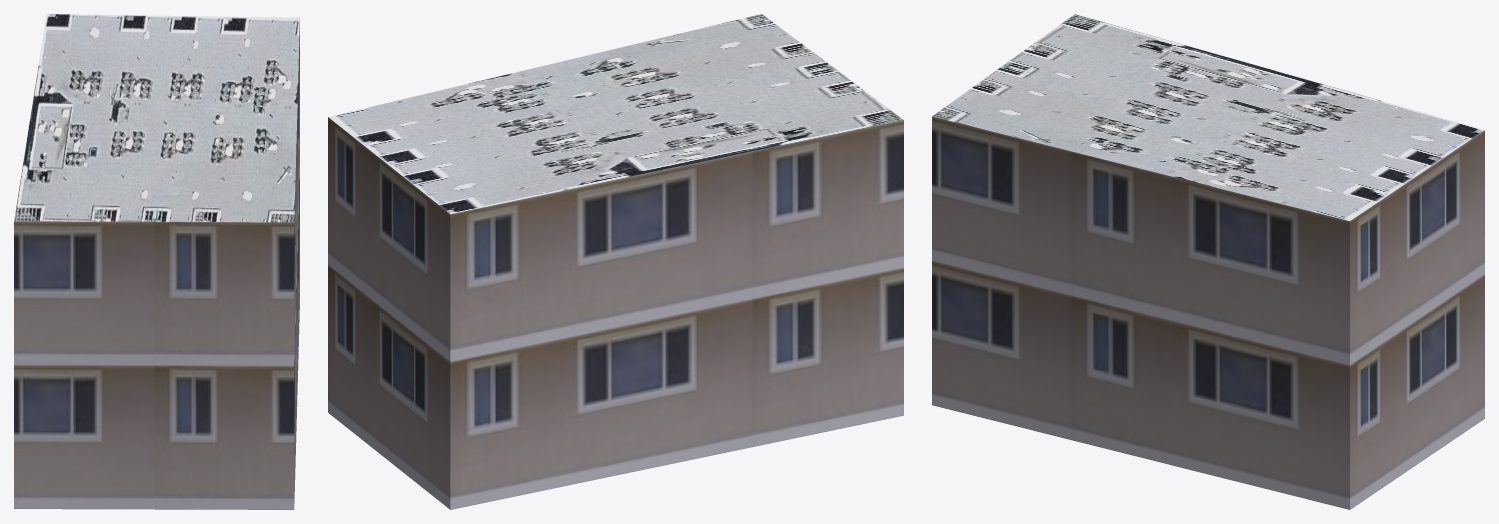
The model's file is ResTex__2616.fbx.
3 views of the same model, side by side, from view 1: azimuth 30°, elevation 25°; view 2: azimuth 150°, elevation 25°; view 3: azimuth 270°, elevation 25° (orthographic). The views are drawn at different scales.
Parts seen in each view (by area): view 1: CityEngineMaterial_21_m, CityEngineMaterial_4_m; view 2: CityEngineMaterial_21_m, CityEngineMaterial_4_m; view 3: CityEngineMaterial_21_m, CityEngineMaterial_4_m.
Part boxes in pixels (x1=…): CityEngineMaterial_21_m: x1=14, y1=23, x2=299, y2=509; CityEngineMaterial_4_m: x1=14, y1=14, x2=299, y2=222; CityEngineMaterial_21_m: x1=328, y1=117, x2=903, y2=509; CityEngineMaterial_4_m: x1=328, y1=14, x2=903, y2=214; CityEngineMaterial_21_m: x1=932, y1=116, x2=1484, y2=509; CityEngineMaterial_4_m: x1=932, y1=14, x2=1484, y2=220.
Bounding box in the file's own units: 9.23 × 6 × 10.41.
Materials: 2 (2 with a texture image).
